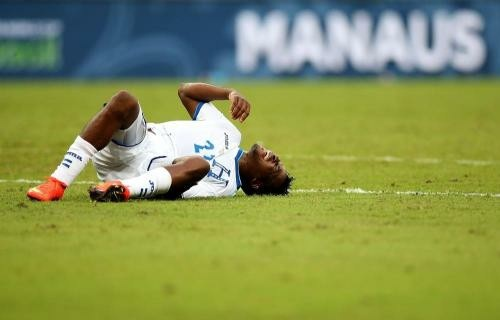falling: (12, 71, 294, 207)
